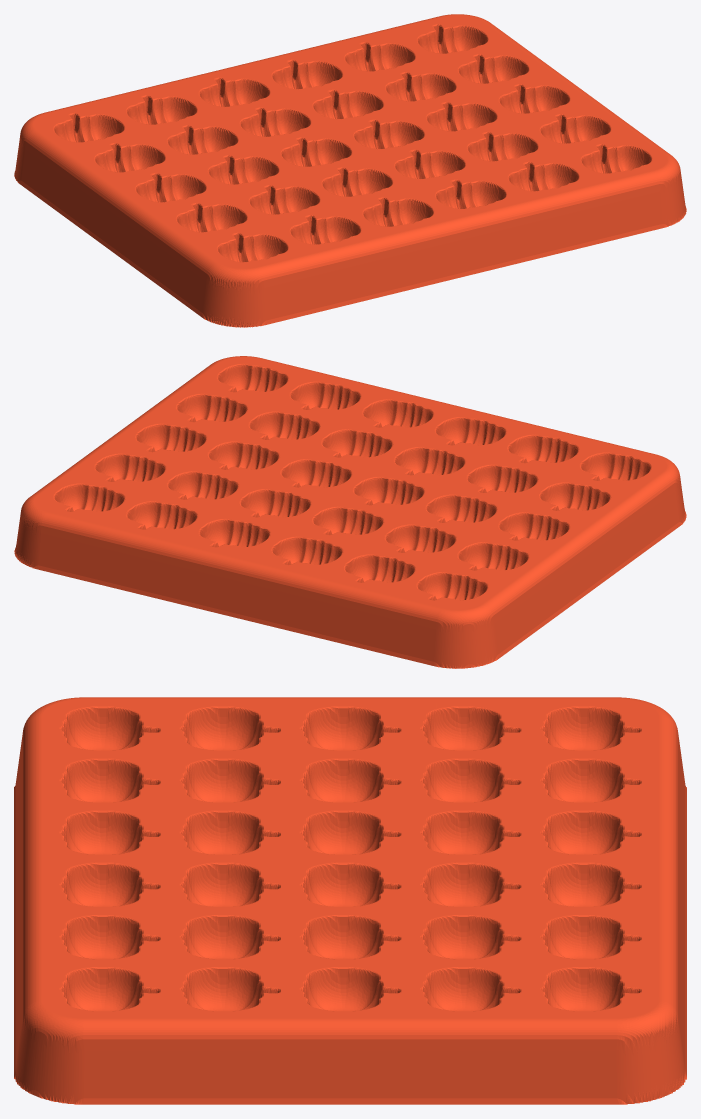
Rendered from mold.glb.
The picture shows the model from 3 angles, top to bottom: view 1: azimuth 30°, elevation 25°; view 2: azimuth 150°, elevation 25°; view 3: azimuth 270°, elevation 25°; orthographic projection. The views are drawn at different scales.
Parts seen in each view (by area): view 1: geometry_0; view 2: geometry_0; view 3: geometry_0.
Boxes of the visible parts, x1,y1,x2,y2 form: geometry_0: (14,14,686,327); geometry_0: (14,356,686,668); geometry_0: (14,697,686,1104).
Bounding box in the file's own units: 0.104 × 0.0105 × 0.0862.
